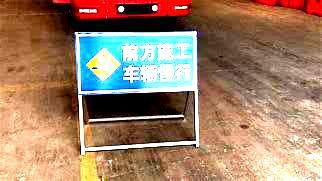sign: (75, 33, 195, 91)
